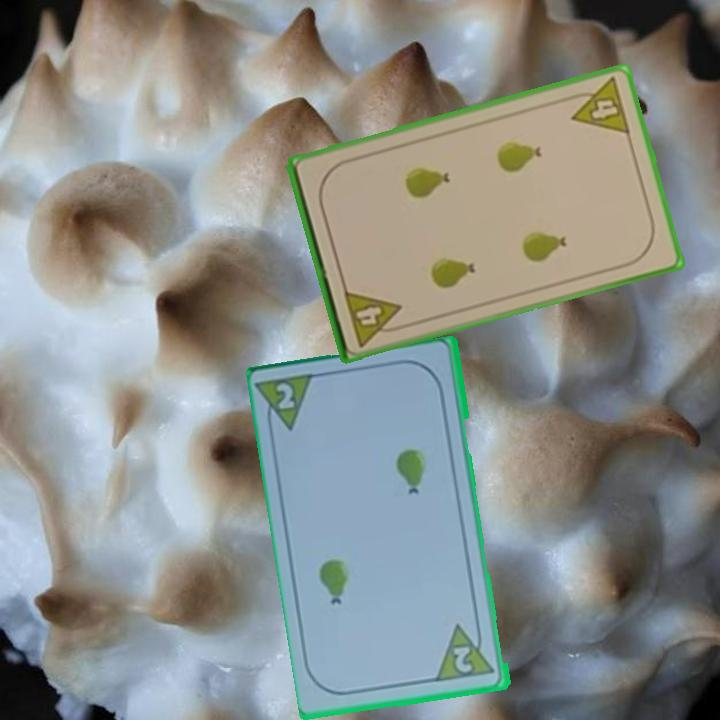2p: (273, 379, 299, 413), (450, 643, 476, 676)
4p: (563, 73, 633, 138), (340, 286, 408, 350)
